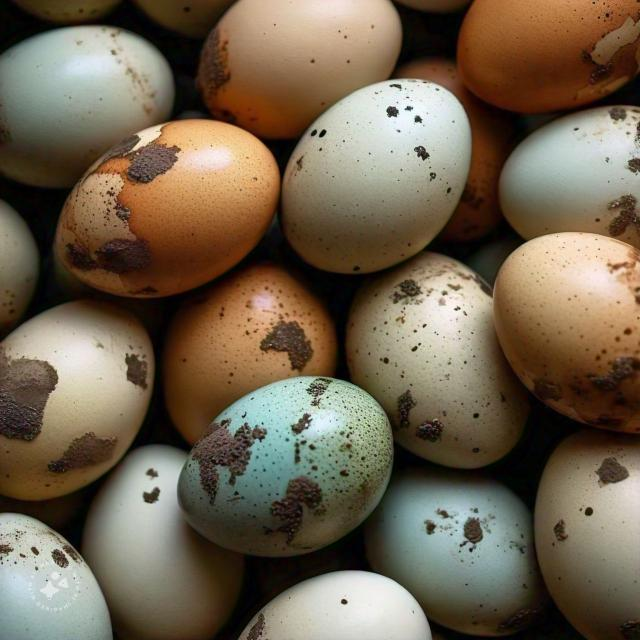Calcium Deposit Egg: (51, 115, 280, 326), (162, 387, 428, 552), (0, 303, 166, 499)
